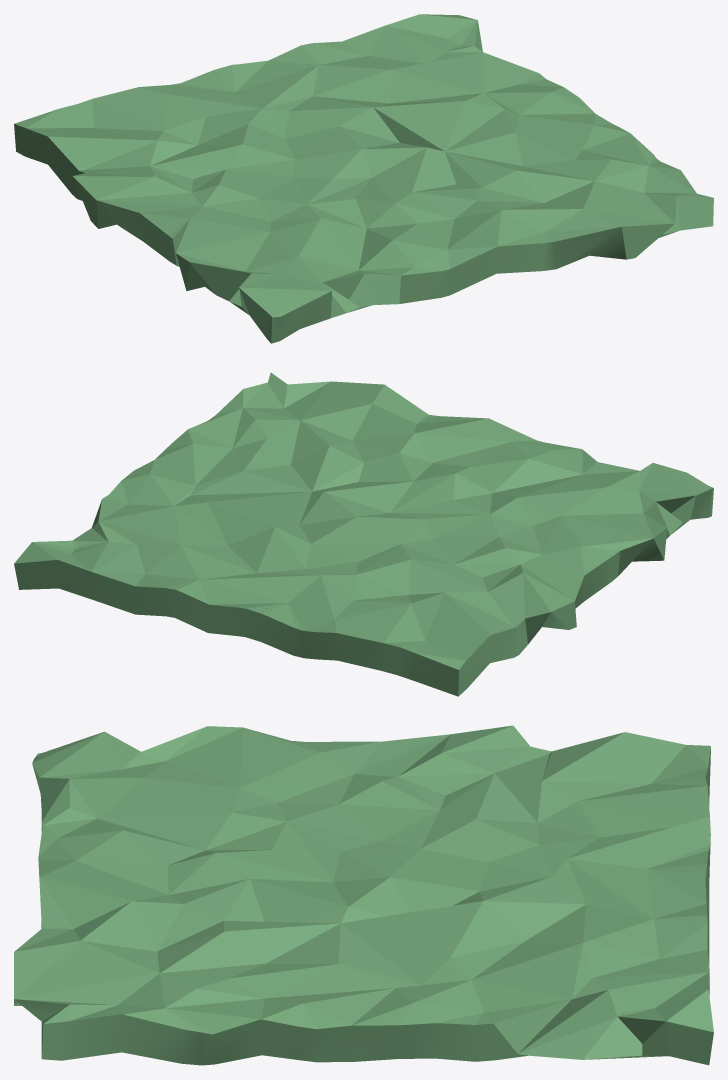
Rendered from grassplane_lowpoly.fbx.
The picture shows the model from 3 angles, top to bottom: view 1: azimuth 30°, elevation 25°; view 2: azimuth 150°, elevation 25°; view 3: azimuth 270°, elevation 25°; orthographic projection. The views are drawn at different scales.
Parts seen in each view (by area): view 1: pPlane2; view 2: pPlane2; view 3: pPlane2.
Part boxes in pixels (bbox=[...]): pPlane2: bbox=[14, 14, 713, 343]; pPlane2: bbox=[14, 372, 713, 696]; pPlane2: bbox=[14, 725, 713, 1065].
Bounding box in the file's own units: 52.8 × 5.08 × 52.44.
